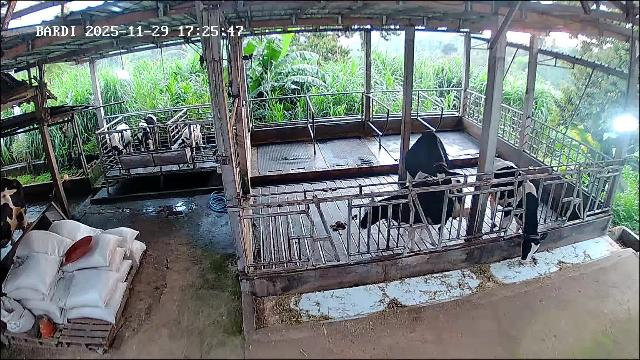mounting: (402, 133, 466, 211)
